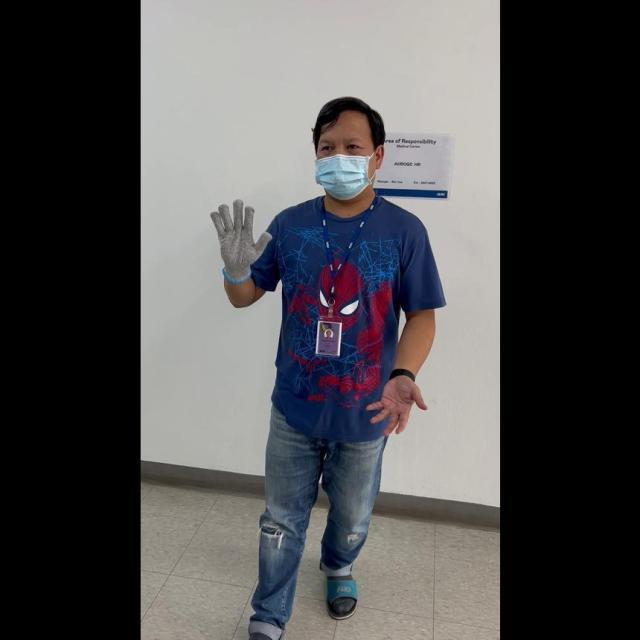bare_hand: (364, 369, 426, 436)
gloved_hand: (210, 196, 272, 285)
